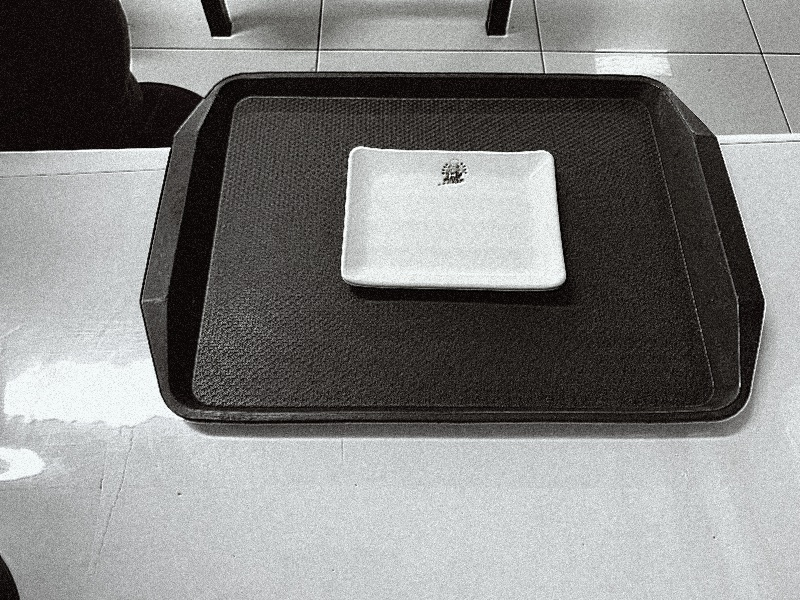dish4: (332, 141, 574, 300)
